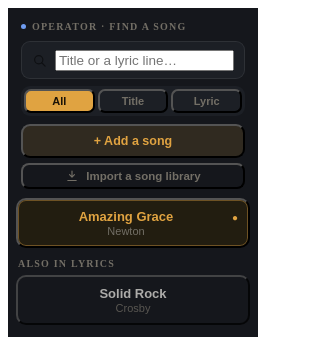
it: SongSearchRail — hover forecasts what a click will do while locked (#89) › forecasts on the "also in lyrics" rows too — the same click, the same meaning
Hover over the button "Solid Rock Crosby" at (133, 300), box [16,275,250,325]
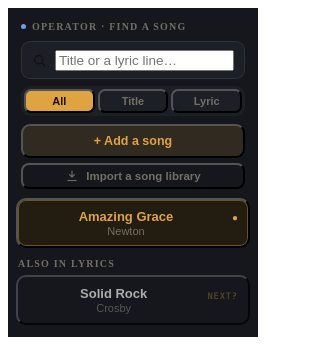
Now the text "NEXT?" is shown, box [207,290,238,302]
